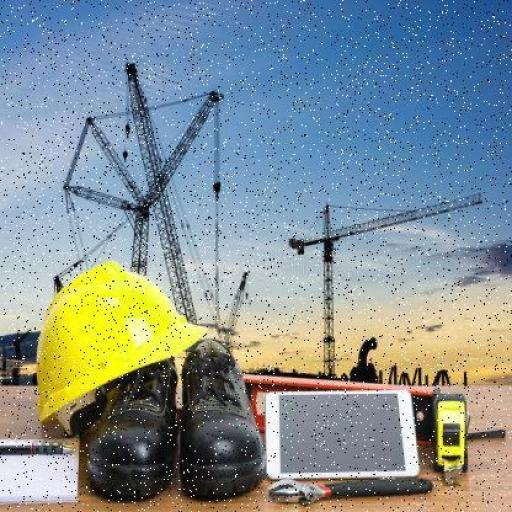safety_shoe: (183, 342, 264, 496), (105, 348, 176, 495)
